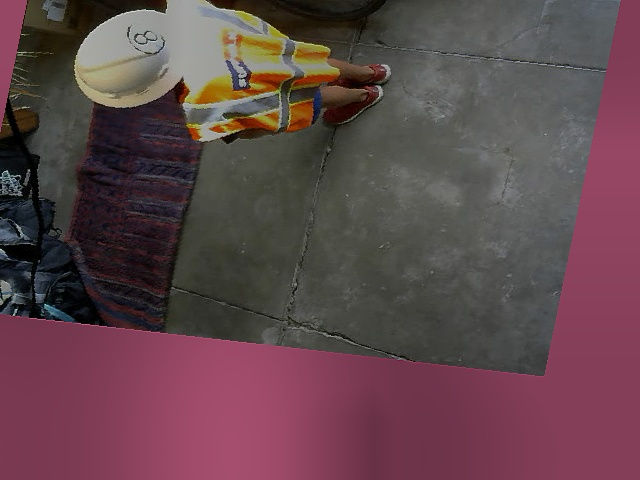eight: (123, 19, 168, 54)
